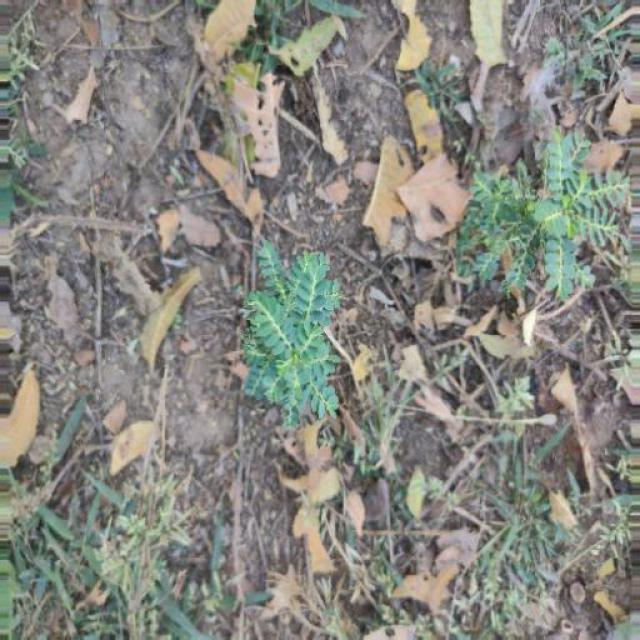weed: (434, 119, 631, 315), (226, 235, 359, 443)
